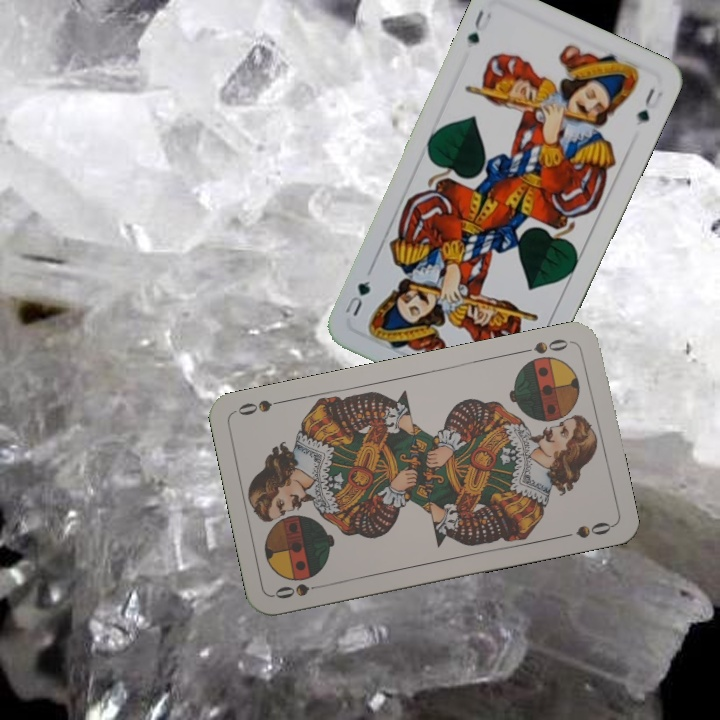GU: (463, 5, 494, 47)
SO: (270, 579, 330, 602), (516, 335, 575, 357)
